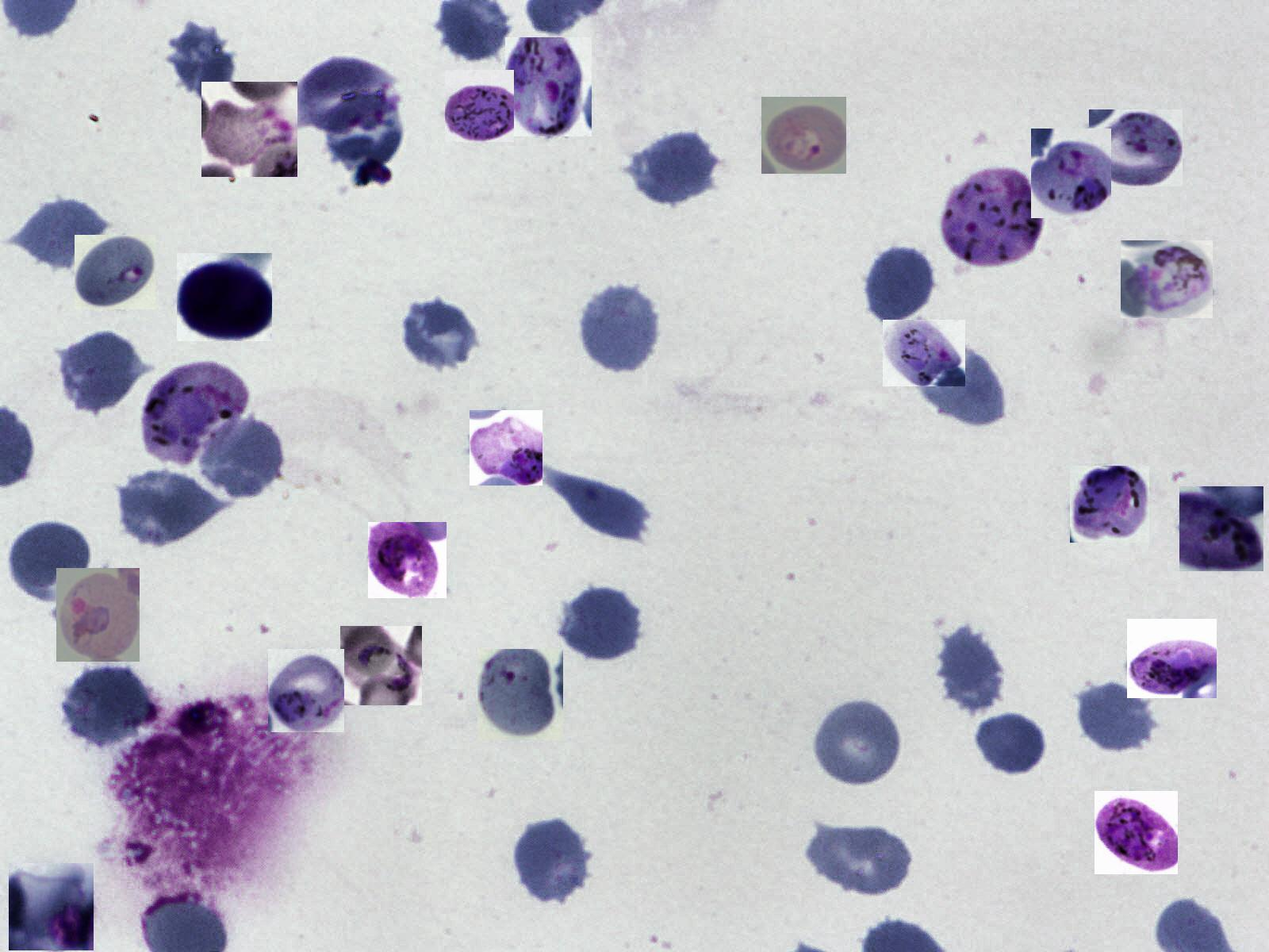Infected: (939, 166, 1045, 271), (140, 360, 248, 462), (201, 82, 297, 177), (505, 37, 592, 136), (177, 253, 272, 341), (293, 56, 396, 133), (477, 649, 563, 740), (56, 569, 140, 662), (9, 863, 94, 950), (1089, 109, 1183, 186), (1121, 240, 1213, 318), (1179, 486, 1263, 571), (1031, 129, 1111, 218), (1127, 619, 1217, 698), (1095, 791, 1178, 874), (761, 97, 846, 174), (340, 626, 422, 705), (268, 650, 344, 733), (1070, 466, 1149, 543), (368, 523, 447, 599), (75, 235, 155, 309), (470, 410, 542, 486), (883, 320, 965, 386), (445, 70, 514, 142)
Uninfected: (812, 697, 906, 791), (805, 819, 915, 899), (541, 466, 653, 539), (577, 279, 663, 374), (119, 470, 224, 547), (197, 415, 286, 503), (509, 815, 593, 907), (63, 663, 152, 749), (913, 344, 1006, 426), (55, 327, 142, 414), (8, 517, 95, 604), (10, 196, 106, 274), (317, 91, 403, 176), (630, 128, 718, 206), (1072, 679, 1160, 757), (559, 585, 643, 663), (400, 294, 481, 374), (866, 244, 938, 325), (935, 626, 1005, 709), (167, 21, 237, 101), (974, 708, 1049, 780)
